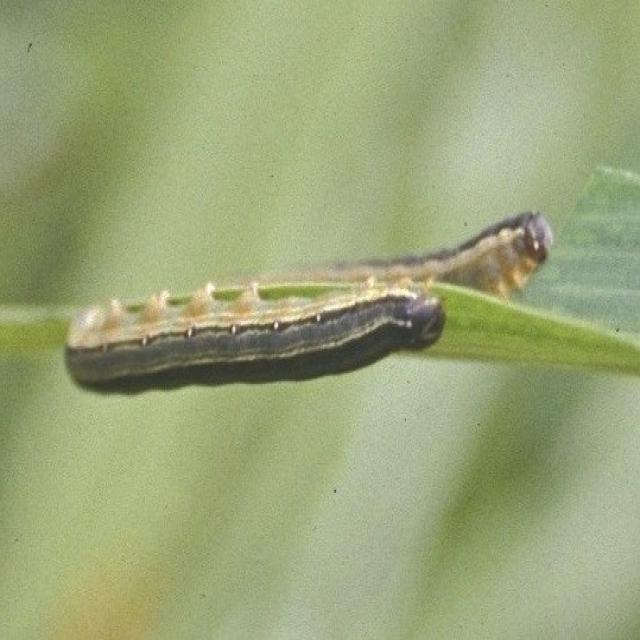worm: (64, 208, 554, 388)
